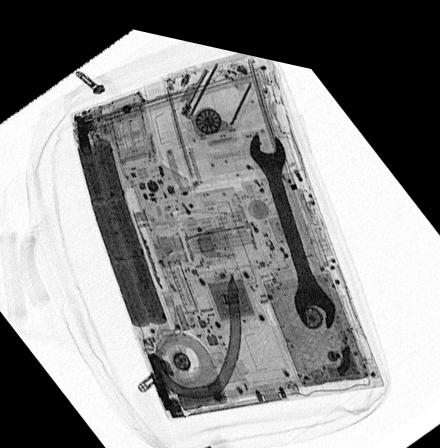Wrench: (247, 119, 337, 314)
